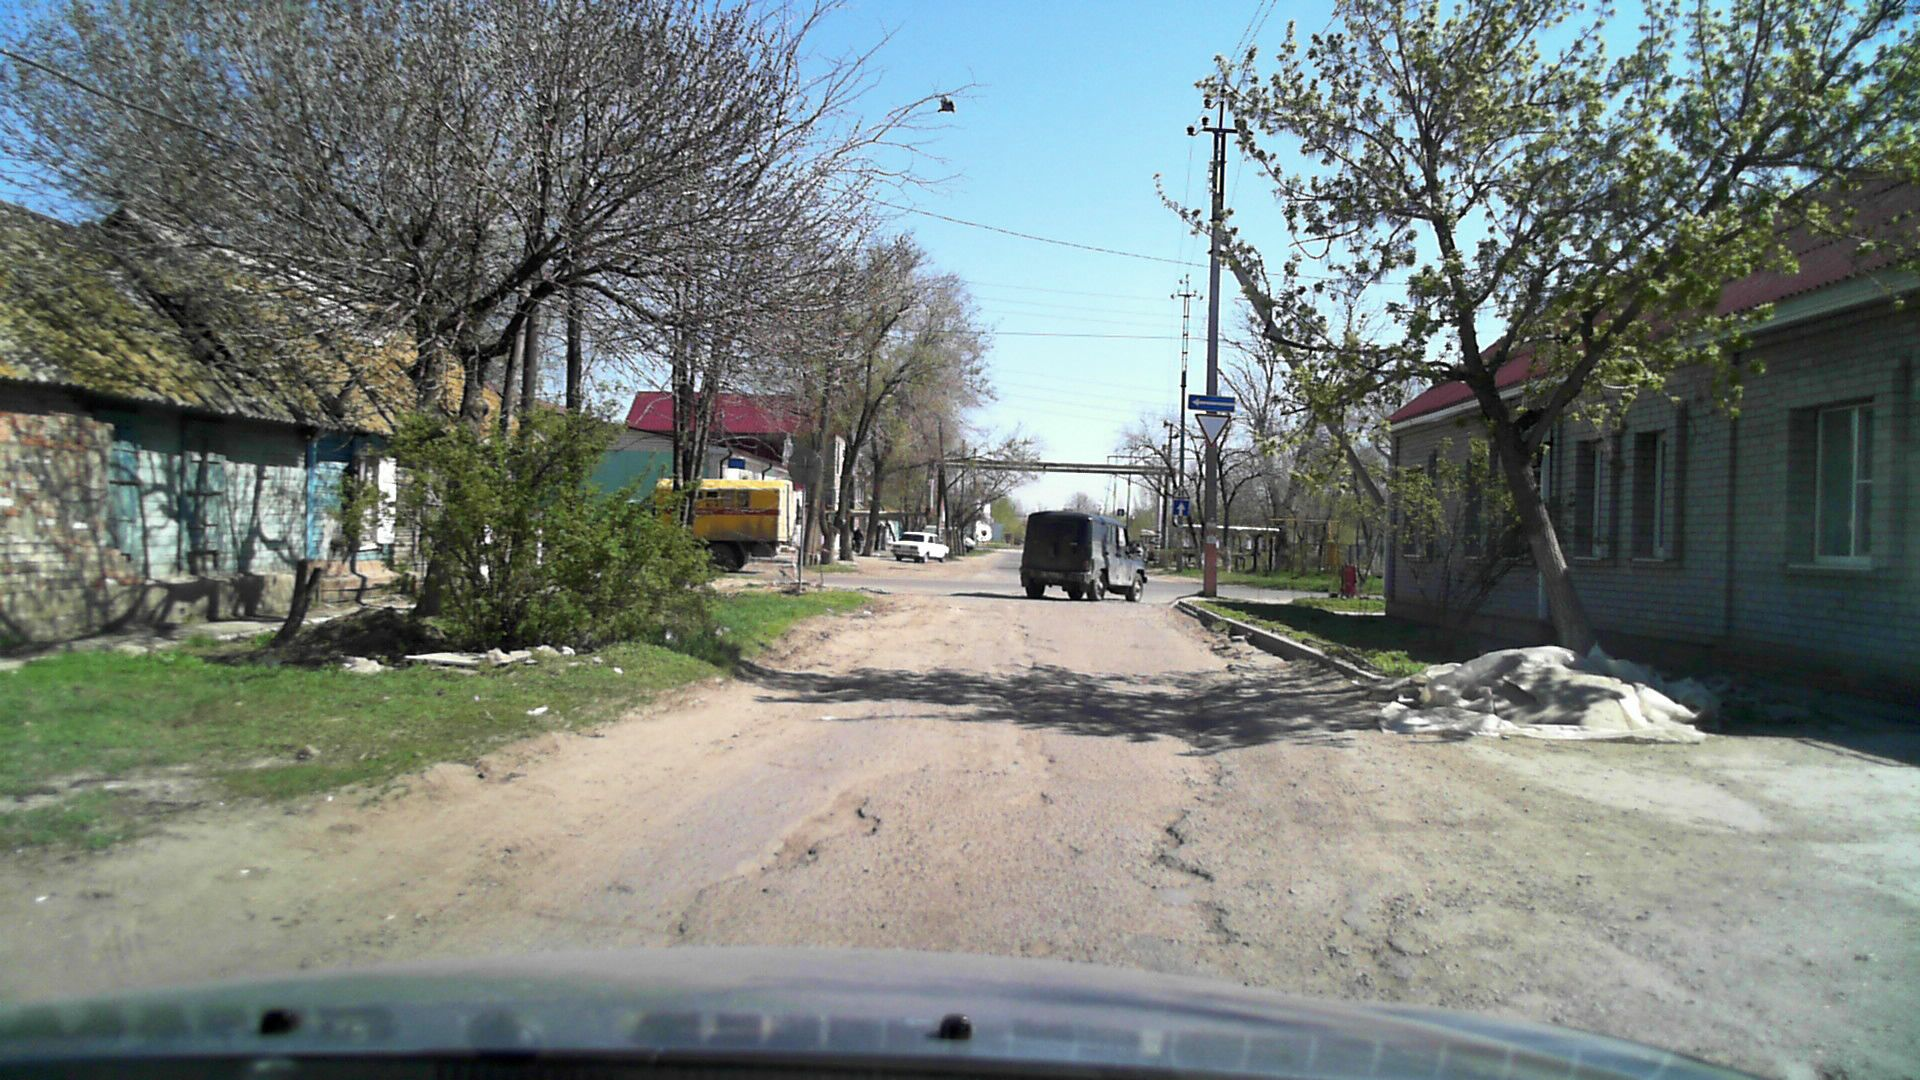One-Way Traffic: (1187, 394, 1236, 411)
